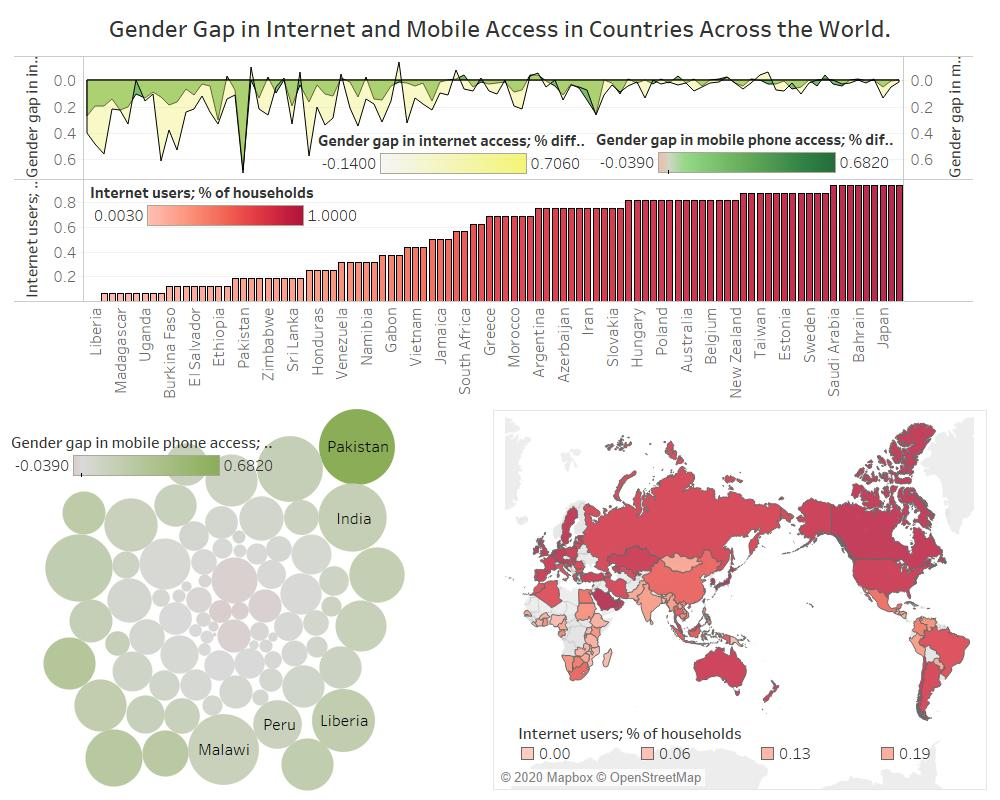

What the dashboard file says about the page in this screenshot:
{"tool":"tableau","page":{"name":"Dashboard 1","canvas":[1000,800],"ordinal":0},"visuals":[{"type":"worksheet","box":[0,0,1000,800]},{"type":"worksheet","param":"vert","box":[8,8,984,784]},{"type":"worksheet","box":[8,8,984,40]},{"type":"worksheet","title":"Sheet 4","mark":"Bar","rows":["Gender gap in mobile phone access; % difference","Gender gap in internet access; % difference","Internet users; % of households"],"cols":["Country"],"box":[14,39,976,403]},{"type":"worksheet","param":"vert","box":[8,48,984,744]},{"type":"worksheet","param":"vert","box":[8,48,984,744]},{"type":"worksheet","box":[8,48,984,744]},{"type":"worksheet","title":"Sheet 4","mark":"Bar","rows":["Gender gap in mobile phone access; % difference","Gender gap in internet access; % difference","Internet users; % of households"],"cols":["Country"],"param":"[federated.012hlxa0whmkbc1960bqx0ipsruv].[sum:Gender gap in mobile phone access;","box":[613,119,298,60]},{"type":"worksheet","title":"Sheet 4","mark":"Bar","rows":["Gender gap in mobile phone access; % difference","Gender gap in internet access; % difference","Internet users; % of households"],"cols":["Country"],"param":"[federated.012hlxa0whmkbc1960bqx0ipsruv].[sum:Gender gap in internet access; % d","box":[325,122,267,63]},{"type":"worksheet","title":"Sheet 4","mark":"Bar","rows":["Gender gap in mobile phone access; % difference","Gender gap in internet access; % difference","Internet users; % of households"],"cols":["Country"],"param":"[federated.012hlxa0whmkbc1960bqx0ipsruv].[sum:Internet users; % of households:qk","box":[92,177,306,56]},{"type":"worksheet","title":"Sheet 4","mark":"Bar","rows":["Gender gap in mobile phone access; % difference","Gender gap in internet access; % difference","Internet users; % of households"],"cols":["Country"],"param":"[federated.012hlxa0whmkbc1960bqx0ipsruv].[none:Internet users; % of households:q","box":[88,192,272,61]},{"type":"worksheet","title":"Sheet 3","mark":"Circle","param":"[federated.012hlxa0whmkbc1960bqx0ipsruv].[none:Gender gap in mobile phone access","box":[11,428,267,59]},{"type":"worksheet","title":"Sheet 1","mark":"Automatic","param":"[federated.012hlxa0whmkbc1960bqx0ipsruv].[sum:Internet users; % of households:qk","box":[517,721,417,60]}]}

Visuals, with their boxes in screenshot pixels (x1, y1, x2, y2), scaled from the page's 1000x800 canvas onto the 1000x800 screenshot:
worksheet: (0, 0, 999, 799)
worksheet: (8, 8, 992, 792)
worksheet: (8, 8, 992, 48)
"Sheet 4" worksheet (Bar marks): (14, 39, 990, 442)
worksheet: (8, 48, 992, 792)
worksheet: (8, 48, 992, 792)
worksheet: (8, 48, 992, 792)
"Sheet 4" worksheet (Bar marks): (613, 119, 911, 179)
"Sheet 4" worksheet (Bar marks): (325, 122, 592, 185)
"Sheet 4" worksheet (Bar marks): (92, 177, 398, 233)
"Sheet 4" worksheet (Bar marks): (88, 192, 360, 253)
"Sheet 3" worksheet (Circle marks): (11, 428, 278, 487)
"Sheet 1" worksheet: (517, 721, 934, 781)
